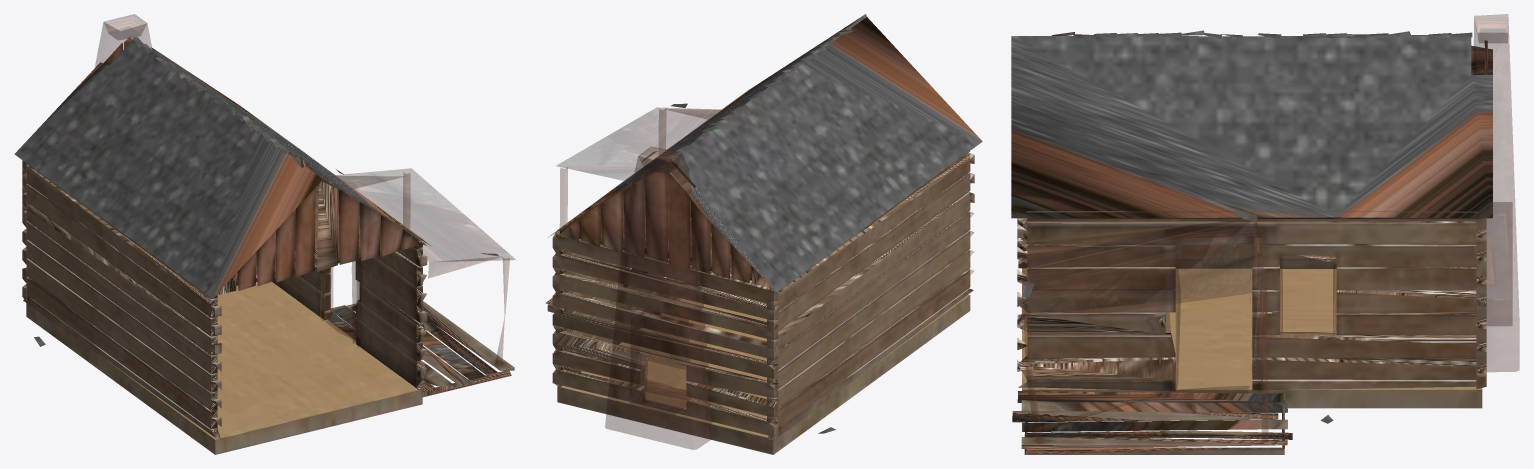
The model's file is ruined-cabin.lod1.glb.
The picture shows the model from 3 angles, left to right: view 1: azimuth 30°, elevation 25°; view 2: azimuth 150°, elevation 25°; view 3: azimuth 270°, elevation 25°; orthographic projection. The views are drawn at different scales.
Parts seen in each view (by area): view 1: Foundation.003_2.001_0, WallShortRight.004_1.001_0, OutRoof.003_3.001_0; view 2: WallShortRight.004_1.001_0, Foundation.003_2.001_0, OutRoof.003_3.001_0; view 3: Foundation.003_2.001_0, WallShortRight.004_1.001_0, OutRoof.003_3.001_0.
Part boxes in pixels (box(x1,y1,x2,y2)): Foundation.003_2.001_0: box(14, 37, 514, 454); WallShortRight.004_1.001_0: box(22, 37, 427, 438); OutRoof.003_3.001_0: box(95, 14, 515, 387); WallShortRight.004_1.001_0: box(552, 89, 974, 440); Foundation.003_2.001_0: box(545, 14, 982, 454); OutRoof.003_3.001_0: box(556, 107, 722, 449); Foundation.003_2.001_0: box(1011, 30, 1492, 454); WallShortRight.004_1.001_0: box(1017, 40, 1487, 391); OutRoof.003_3.001_0: box(1022, 14, 1519, 441).
Size of the model in its own units: 5.37 by 4.23 by 5.98.
3 materials, 3 textured.
